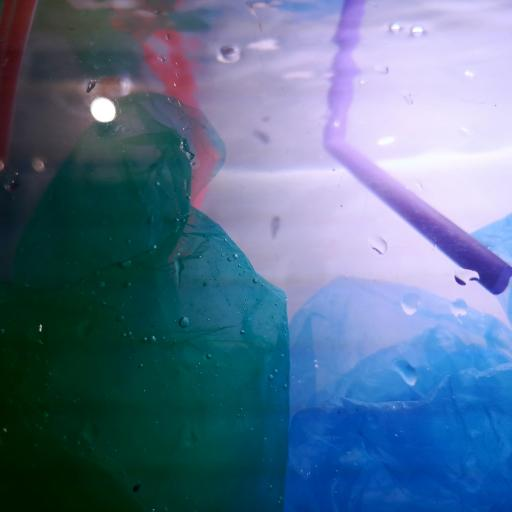plastic_bag: (3, 90, 291, 512), (291, 272, 512, 512)
plastic_straw: (323, 0, 512, 296), (0, 0, 39, 171)
